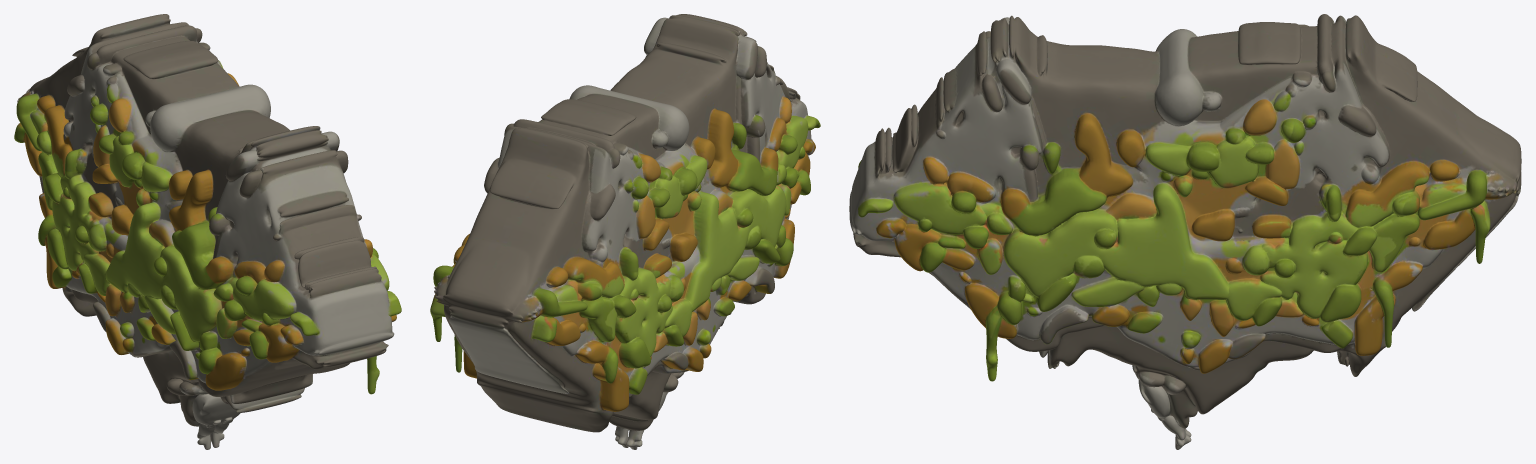
The model's file is deco_island_02.fbx.
The picture shows the model from 3 angles, left to right: view 1: azimuth 30°, elevation 25°; view 2: azimuth 150°, elevation 25°; view 3: azimuth 270°, elevation 25°; orthographic projection. The views are drawn at different scales.
Visible parts, largest first — view 1: tripo_node_27d09465-78bd-4dbc-9094-5855350d2bfa; view 2: tripo_node_27d09465-78bd-4dbc-9094-5855350d2bfa; view 3: tripo_node_27d09465-78bd-4dbc-9094-5855350d2bfa.
Boxes of the visible parts, x1,y1,x2,y2 form: tripo_node_27d09465-78bd-4dbc-9094-5855350d2bfa: (14, 14, 401, 449); tripo_node_27d09465-78bd-4dbc-9094-5855350d2bfa: (430, 14, 820, 449); tripo_node_27d09465-78bd-4dbc-9094-5855350d2bfa: (849, 14, 1521, 449).
Size of the model in its own units: 34.01 by 66.96 by 98.09.
Materials: 1 (1 with a texture image).
